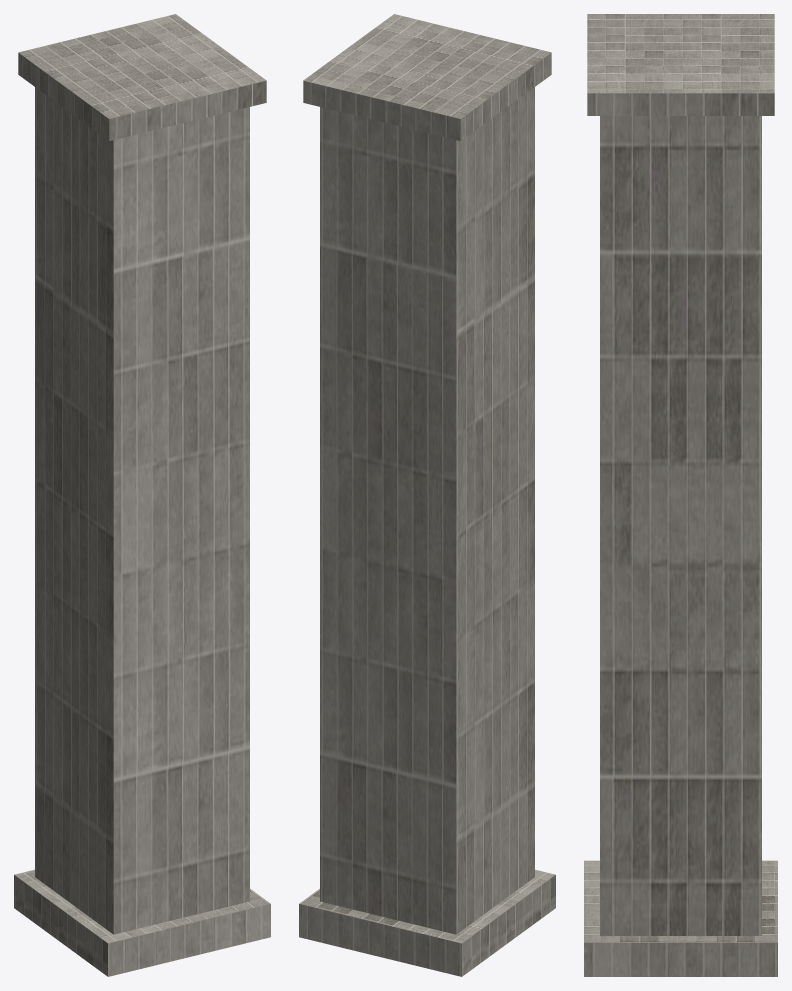
Rendered from Pole 2.fbx.
The picture shows the model from 3 angles, left to right: view 1: azimuth 30°, elevation 25°; view 2: azimuth 150°, elevation 25°; view 3: azimuth 270°, elevation 25°; orthographic projection. The views are drawn at different scales.
Parts seen in each view (by area): view 1: Cube; view 2: Cube; view 3: Cube.
Part boxes in pixels (x1,y1,x2,y2): Cube: (14,14,270,976); Cube: (299,14,555,976); Cube: (584,14,777,976).
Size of the model in its own units: 239 by 1200 by 239.
